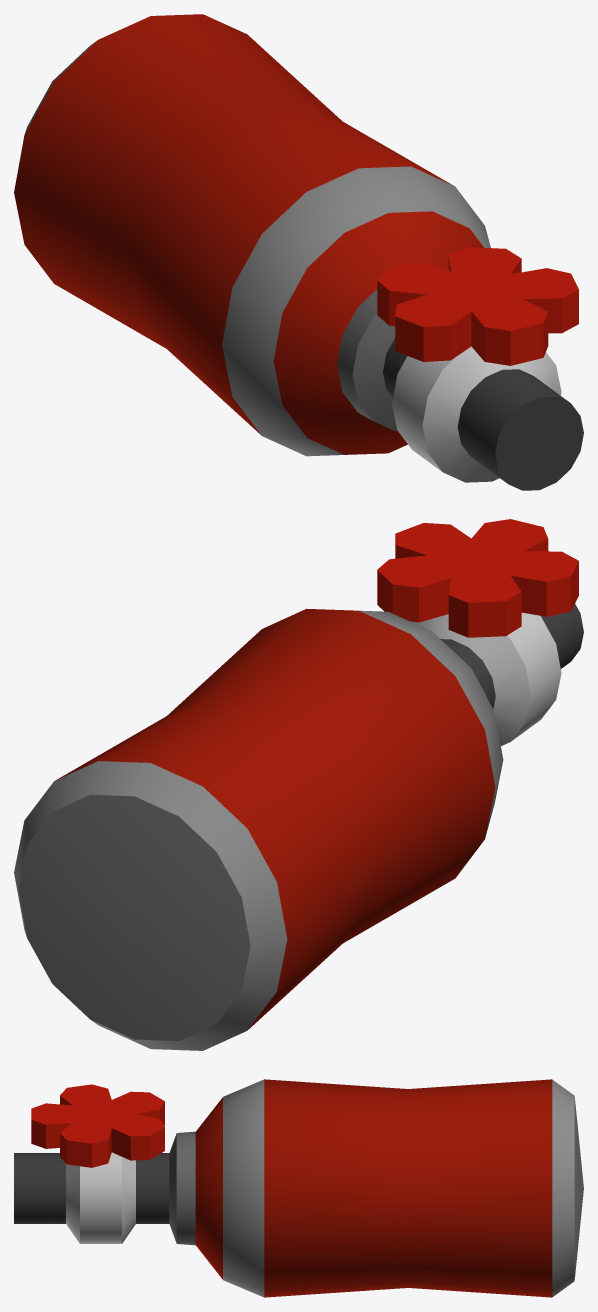
Rendered from accelerator.fbx.
3 renders of one model, top to bottom at view 1: azimuth 30°, elevation 25°; view 2: azimuth 150°, elevation 25°; view 3: azimuth 270°, elevation 25°, orthographic. The views are drawn at different scales.
Parts seen in each view (by area): view 1: accelerator; view 2: accelerator; view 3: accelerator.
Part boxes in pixels (x1,y1,x2,y2): accelerator: (14, 14, 583, 490); accelerator: (14, 519, 583, 1050); accelerator: (14, 1079, 583, 1297).
Bounding box in the file's own units: 37.27 × 37.27 × 97.25.
